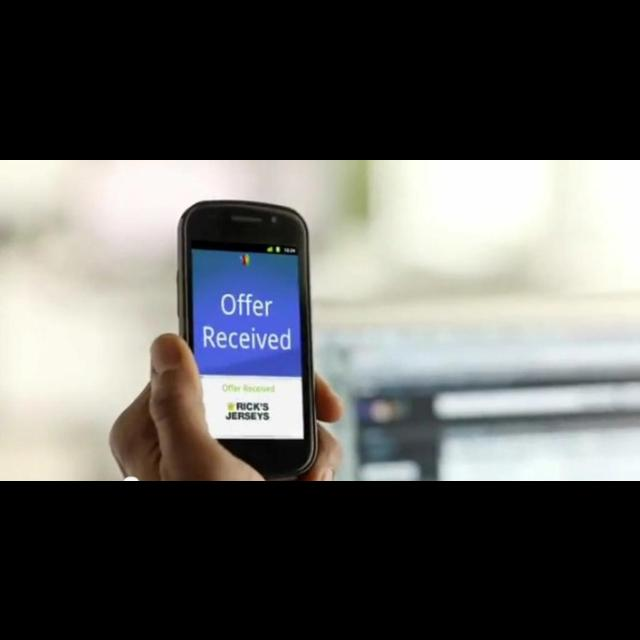Smartphone: (176, 196, 316, 470)
